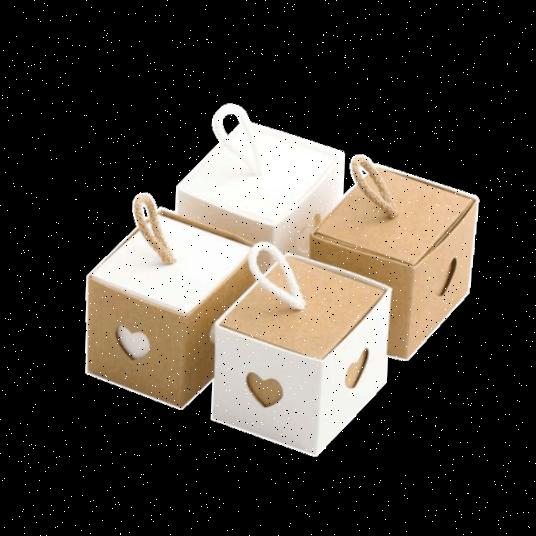cube: (214, 260, 400, 461), (81, 211, 259, 411), (321, 172, 481, 372)
